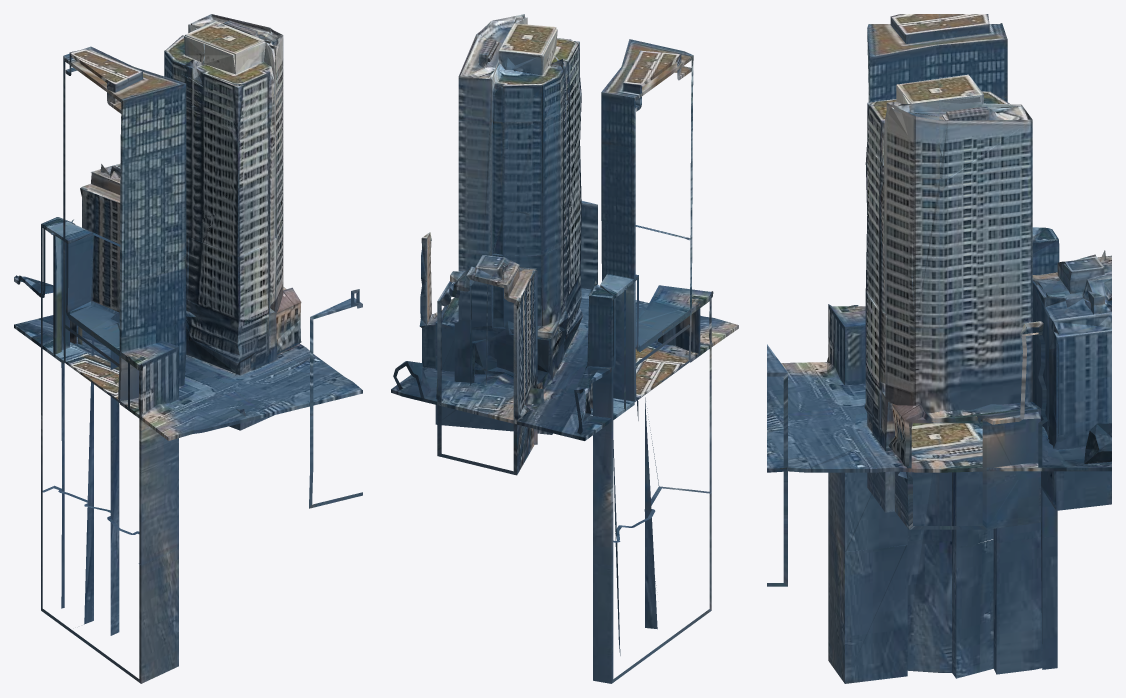
File: chunk_7_2.glb
The picture shows the model from 3 angles, left to right: view 1: azimuth 30°, elevation 25°; view 2: azimuth 150°, elevation 25°; view 3: azimuth 270°, elevation 25°; orthographic projection. The views are drawn at different scales.
Visible parts, largest first — view 1: hero-chunk; view 2: hero-chunk; view 3: hero-chunk.
Part boxes in pixels (x1,y1,x2,y2): hero-chunk: [14, 14, 362, 683]; hero-chunk: [391, 14, 738, 683]; hero-chunk: [767, 14, 1111, 683].
Size of the model in its own units: 57.27 by 158 by 76.32.
5 materials, 5 textured.
